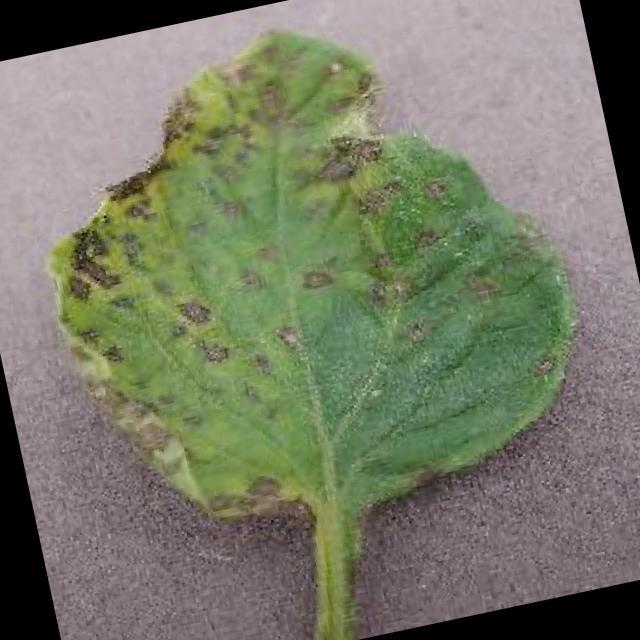Tomato Septoria spot leaf: (5, 0, 605, 564)
